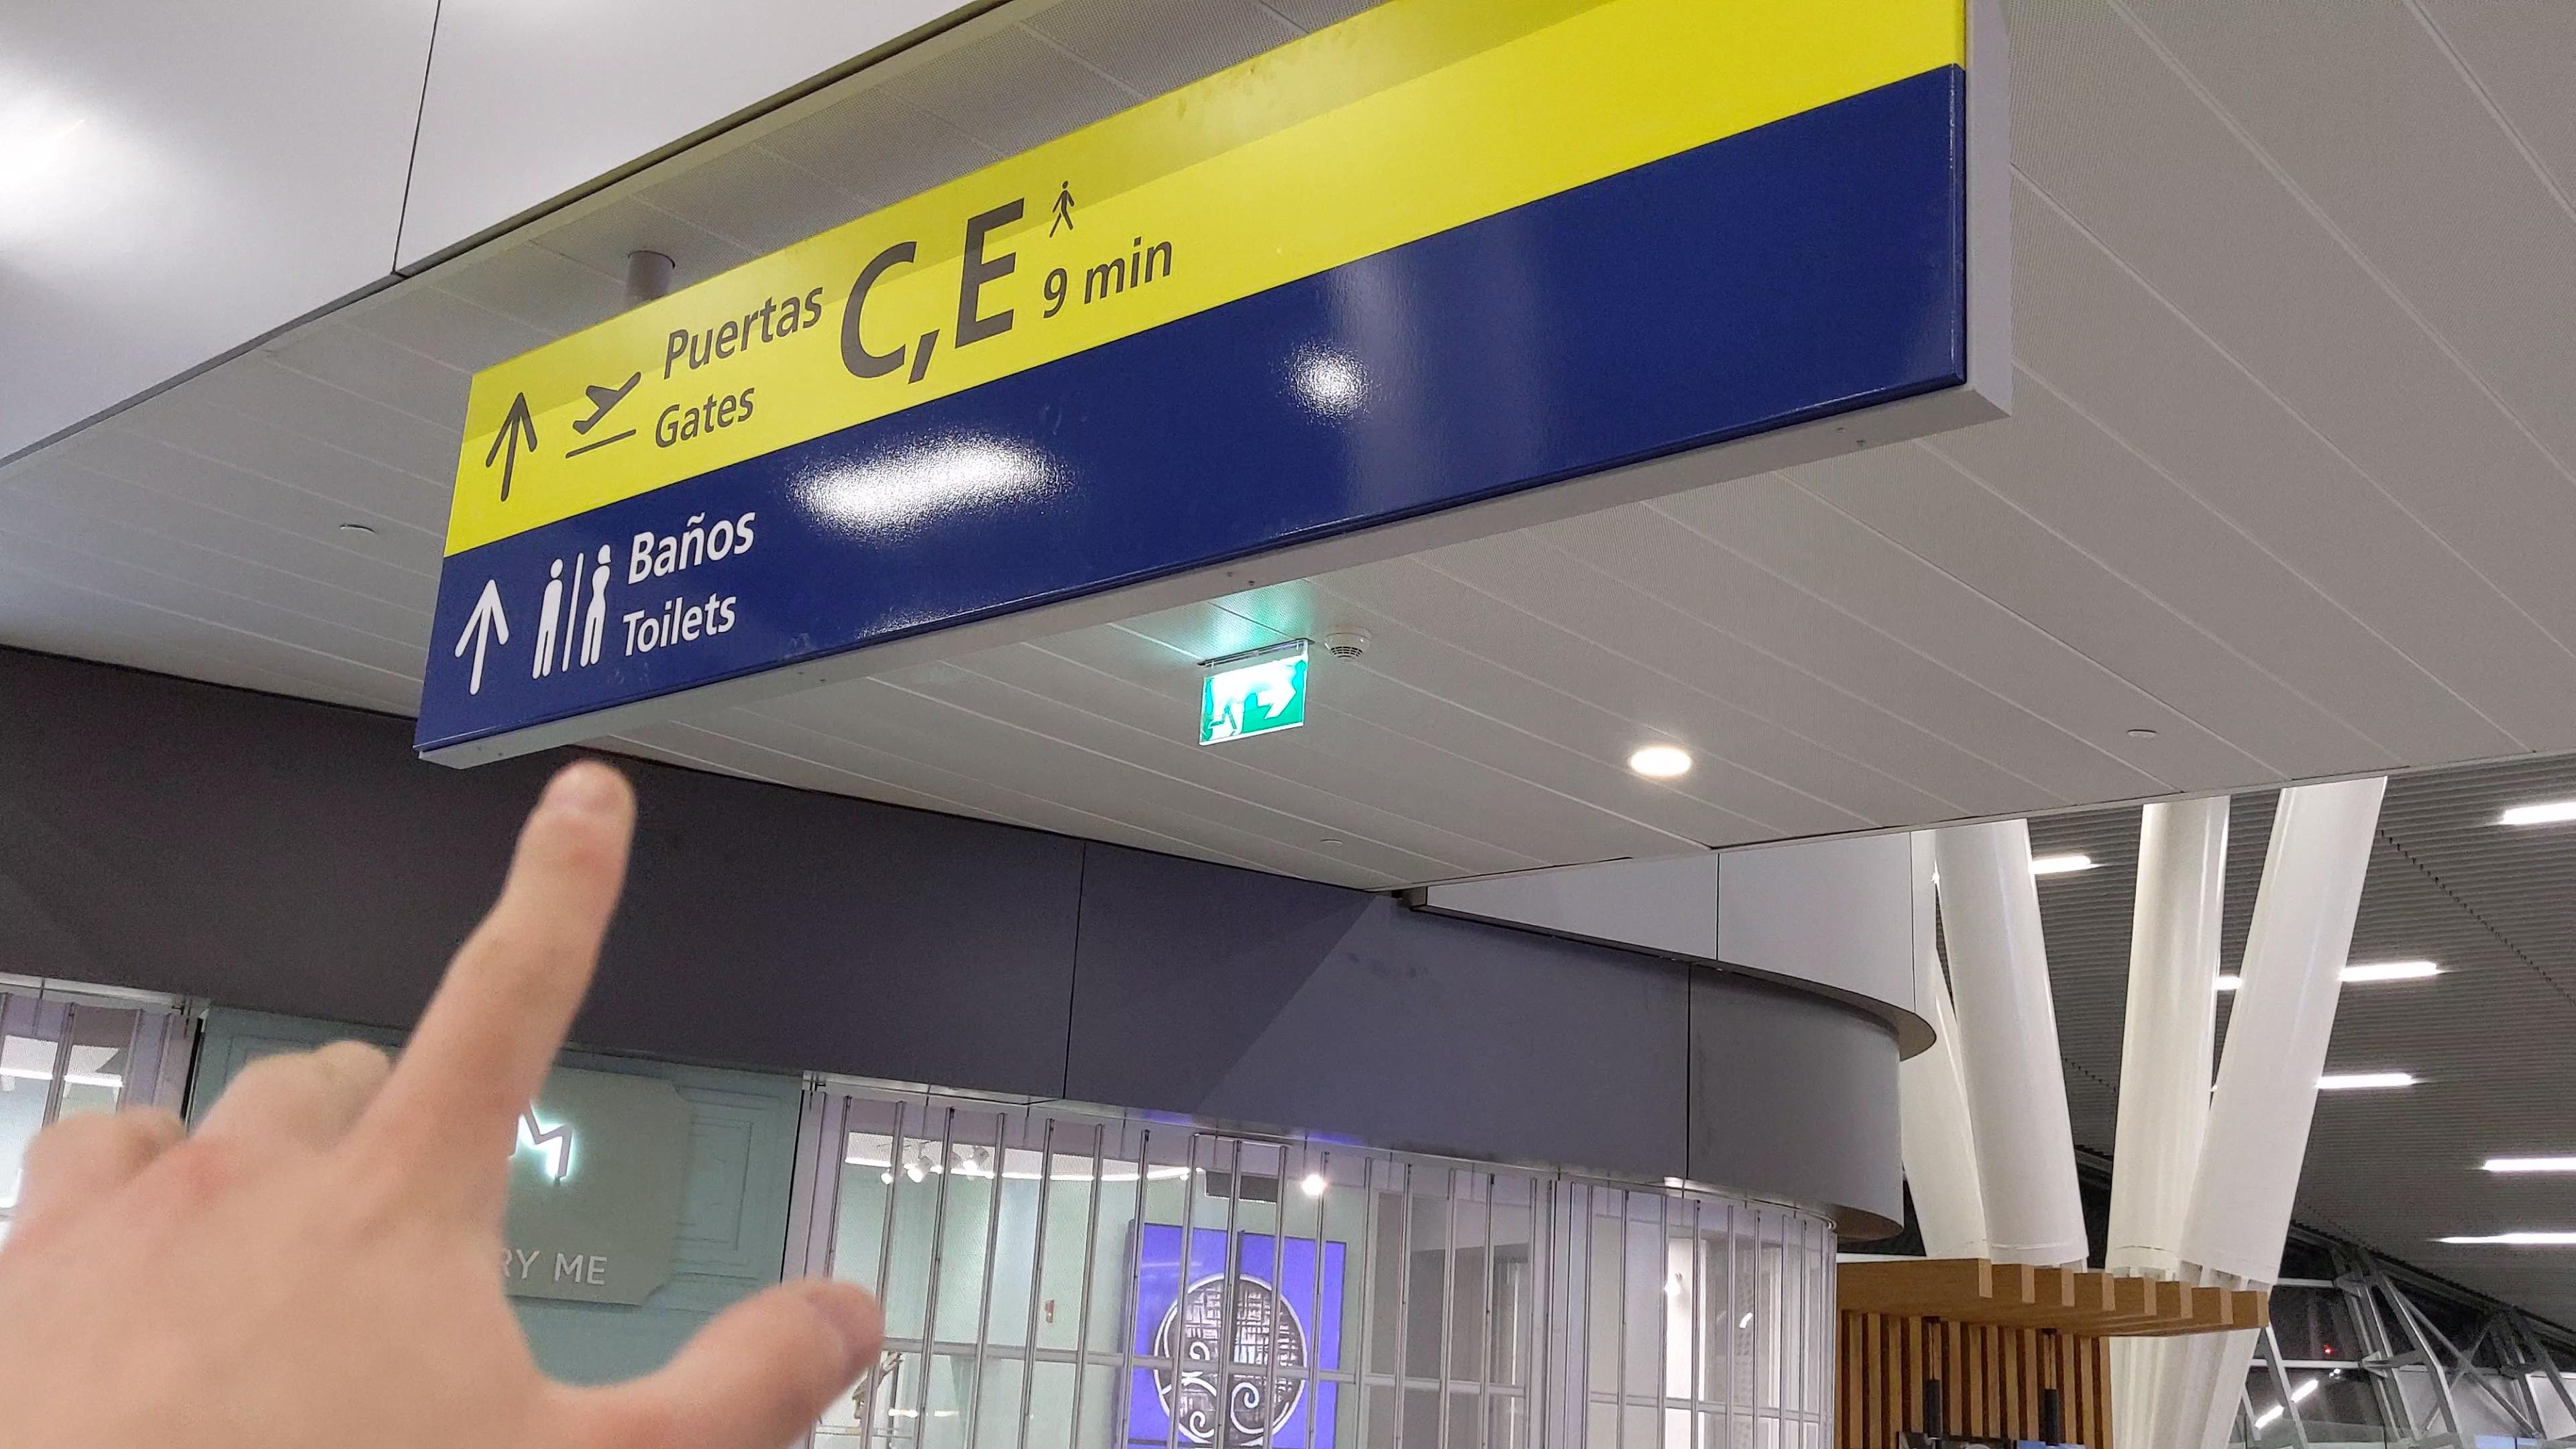airplane symbol: (568, 370, 643, 435)
bathrooms: (525, 540, 617, 686)
emergency exit: (1205, 677, 1254, 740)
emergency right arrow: (1253, 673, 1297, 721)
thin up arrow: (449, 576, 515, 698), (481, 387, 541, 506)
